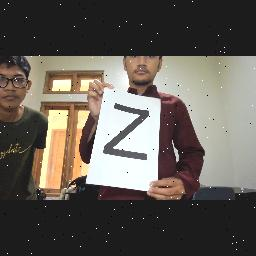z: (102, 100, 152, 162)
